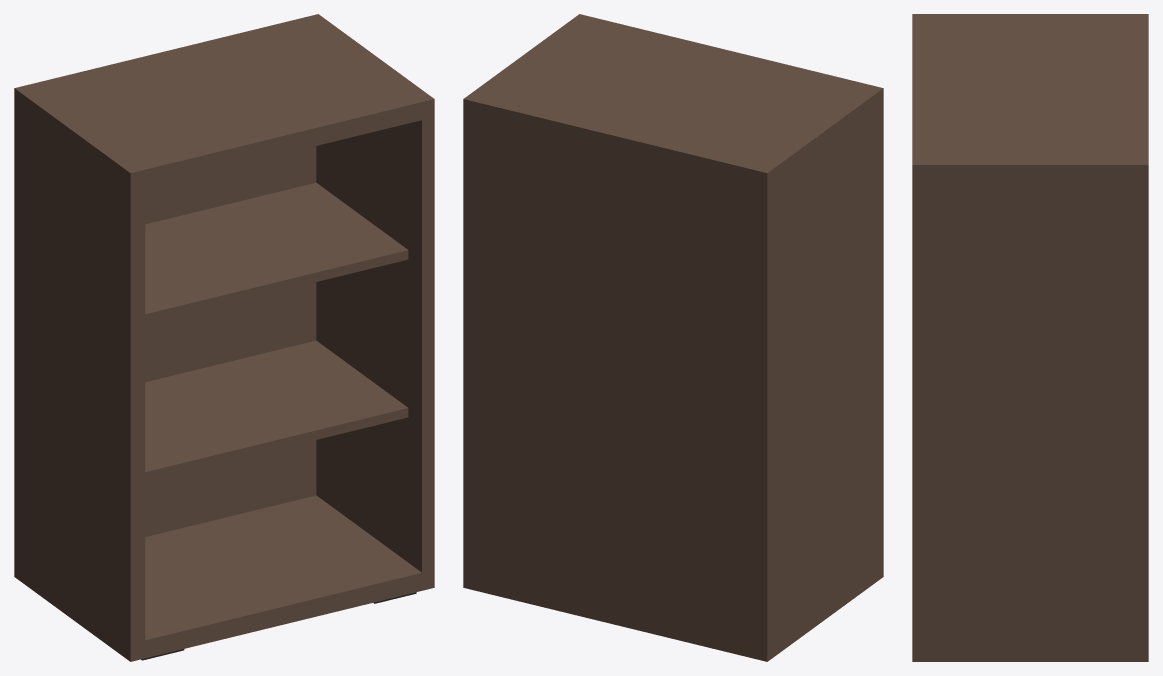
File: bookshelf2_W.fbx
3 views of the same model, side by side, from view 1: azimuth 30°, elevation 25°; view 2: azimuth 150°, elevation 25°; view 3: azimuth 270°, elevation 25° (orthographic).
Parts seen in each view (by area): view 1: FurnitureSet_11_v_02; view 2: FurnitureSet_11_v_02; view 3: FurnitureSet_11_v_02.
Boxes of the visible parts, x1,y1,x2,y2 form: FurnitureSet_11_v_02: (14,14,434,661); FurnitureSet_11_v_02: (463,14,883,661); FurnitureSet_11_v_02: (912,14,1148,661).
Bounding box in the file's own units: 72.98 × 113 × 48.3.
